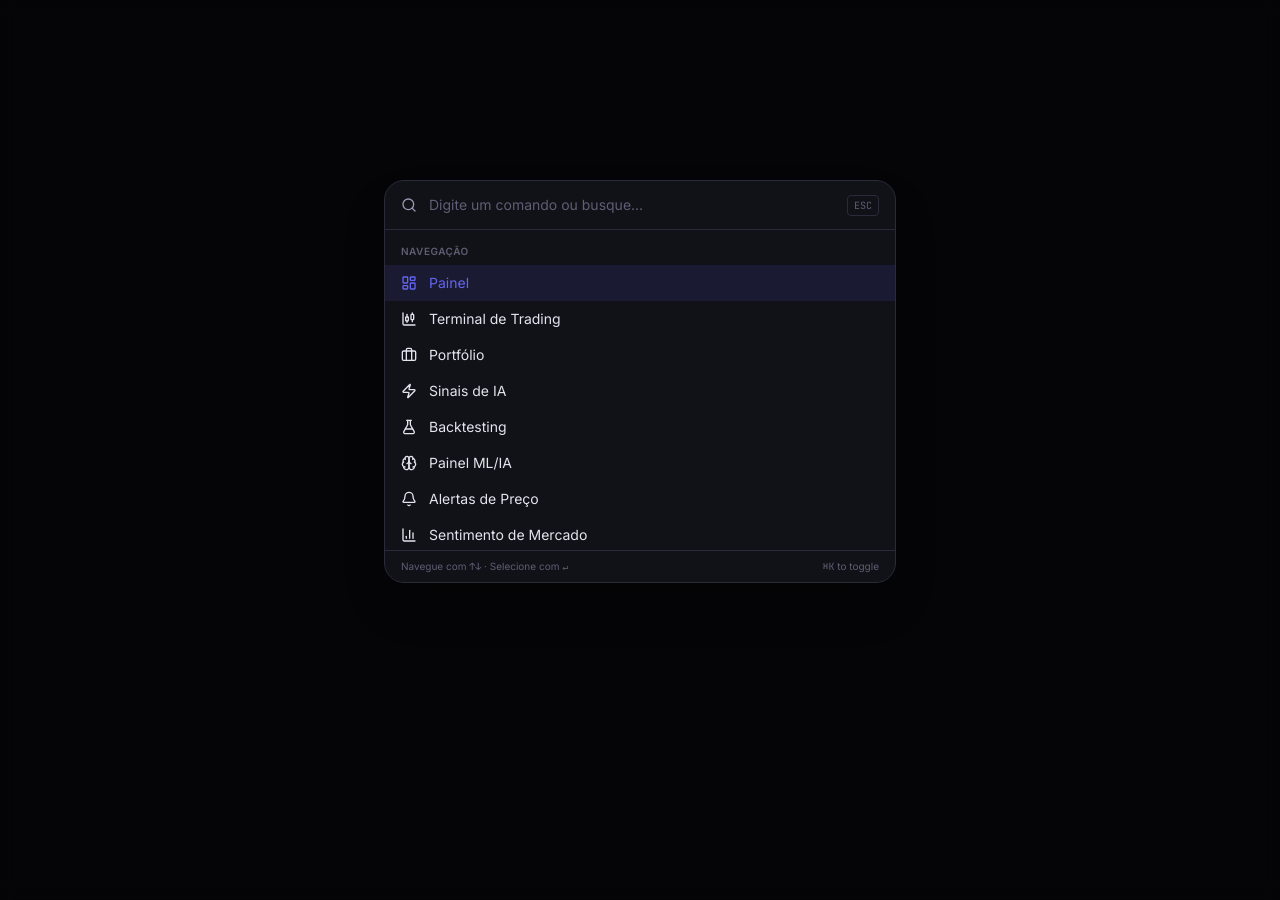
Test: CommandPalette › shows no results message for unmatched query
This screenshot has width=1280, height=900.
In the field with placeholder "Digite um comando ou busque...": point(632, 205) [429, 181, 835, 229], type "zzzzzzzzz"
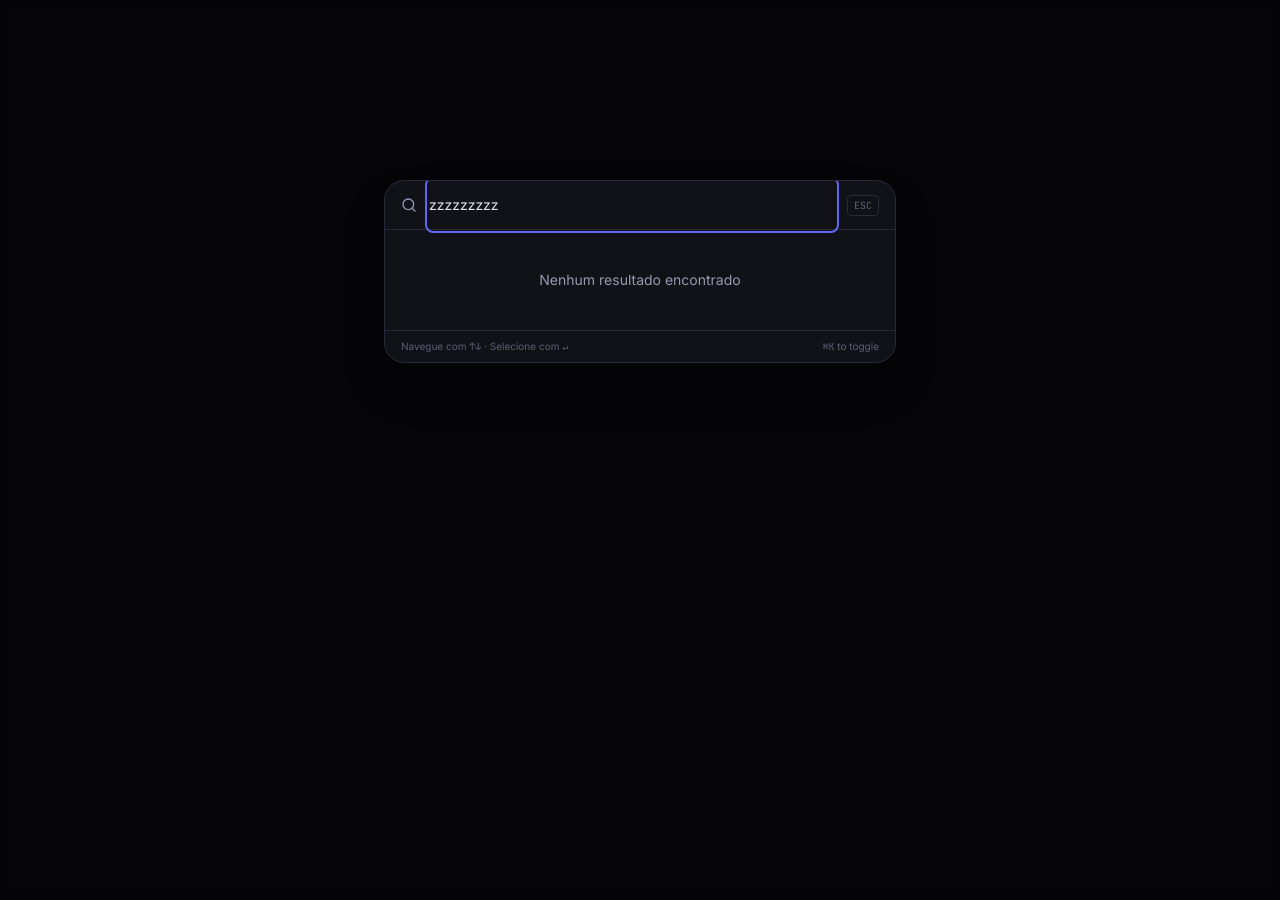
Expected: the text "Nenhum resultado encontrado" is shown, [539, 271, 741, 288]
